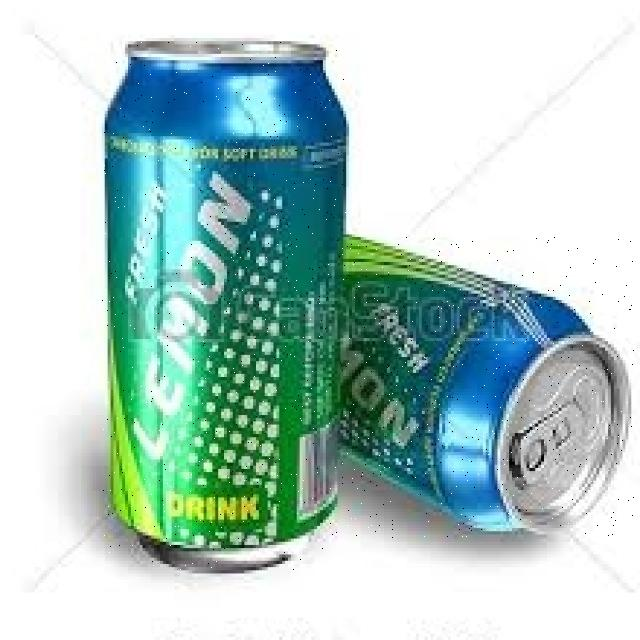metal: (102, 41, 346, 570), (341, 237, 634, 538)
